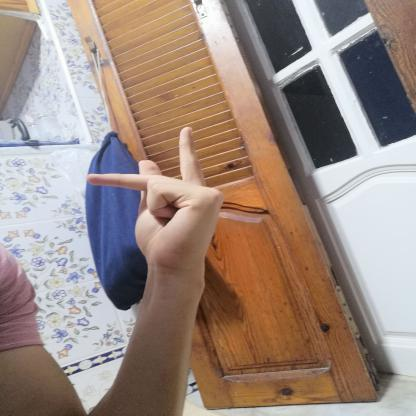DHAA: (72, 116, 237, 283)
